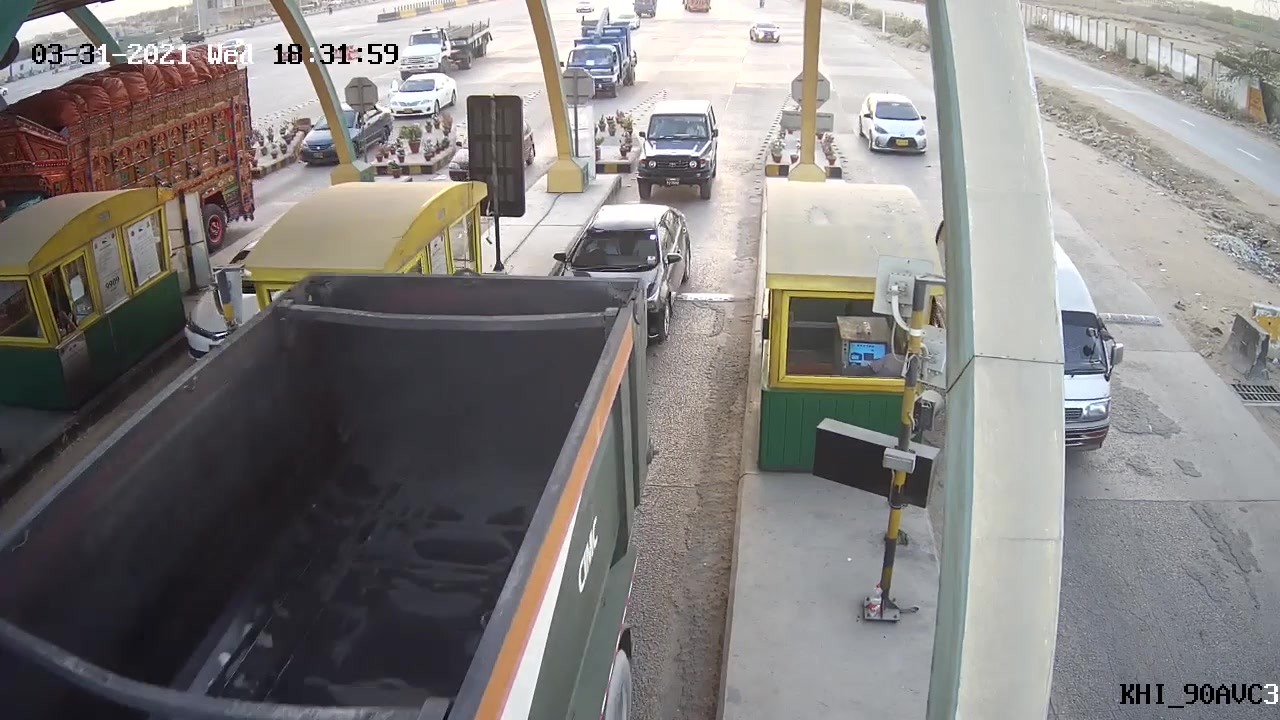F1: (634, 100, 728, 202)
